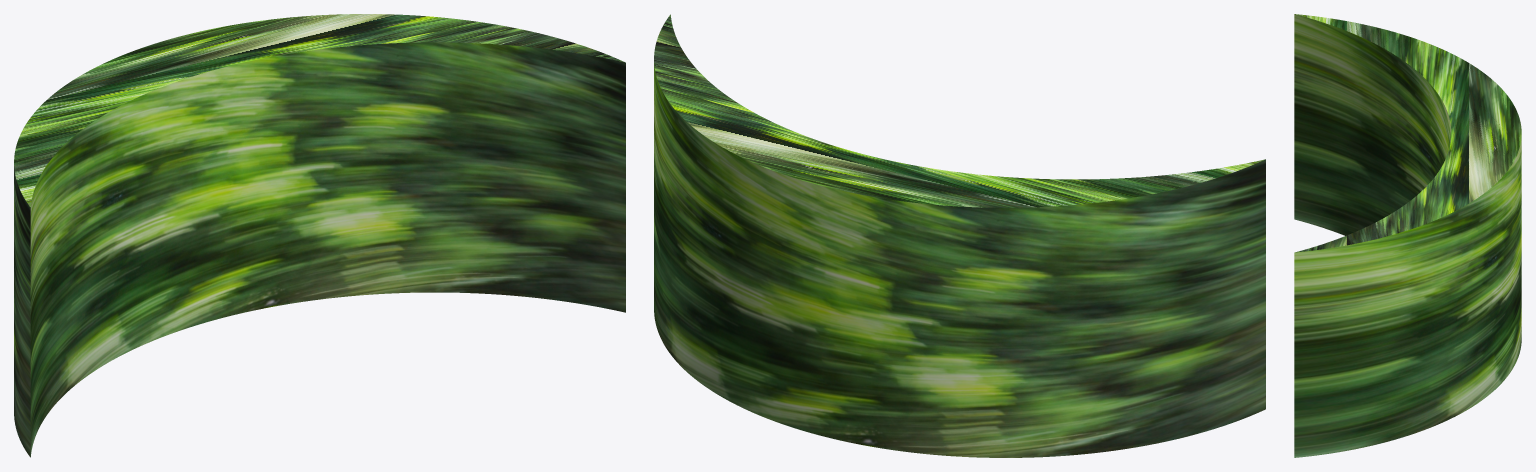
File: sidescreen.fbx
3 views of the same model, side by side, from view 1: azimuth 30°, elevation 25°; view 2: azimuth 150°, elevation 25°; view 3: azimuth 270°, elevation 25° (orthographic). The views are drawn at different scales.
Parts seen in each view (by area): view 1: Cylinder001; view 2: Cylinder001; view 3: Cylinder001.
Part boxes in pixels (bbox=[...]): Cylinder001: bbox=[14, 14, 625, 457]; Cylinder001: bbox=[654, 14, 1265, 457]; Cylinder001: bbox=[1294, 14, 1521, 457].
Size of the model in its own units: 208 by 83.55 by 83.85.
